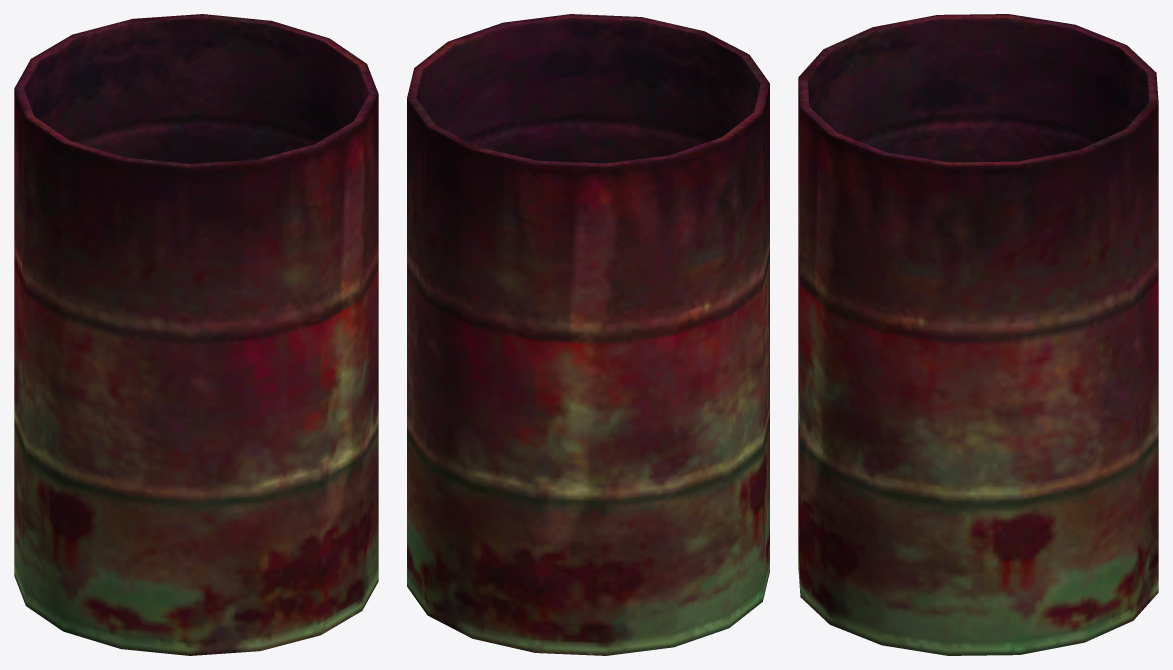
The model's file is od_single_open_upright_red.fbx.
3 renders of one model, left to right at view 1: azimuth 30°, elevation 25°; view 2: azimuth 150°, elevation 25°; view 3: azimuth 270°, elevation 25°, orthographic.
Visible parts, largest first — view 1: mesh_0; view 2: mesh_0; view 3: mesh_0.
Boxes of the visible parts, x1,y1,x2,y2 form: mesh_0: (14, 14, 378, 655); mesh_0: (407, 14, 769, 655); mesh_0: (798, 14, 1158, 655).
Size of the model in its own units: 58.87 by 88.26 by 58.87.
1 material, 1 textured.
